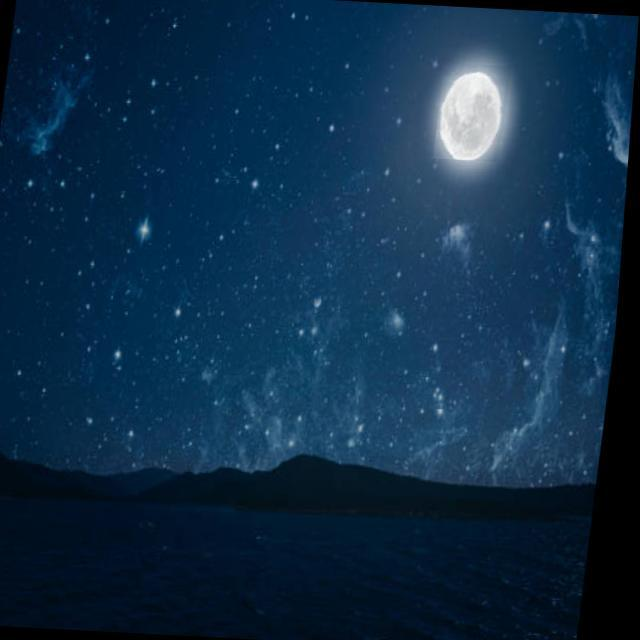moon: (435, 62, 514, 162)
